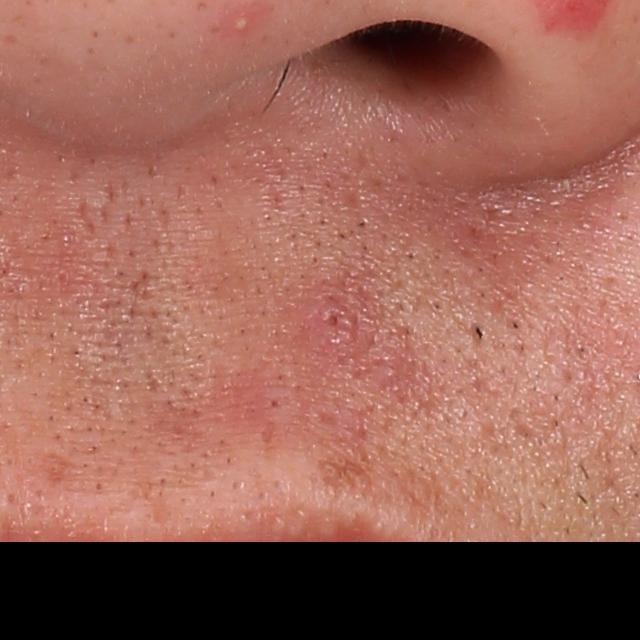pustule: (231, 16, 251, 34)
